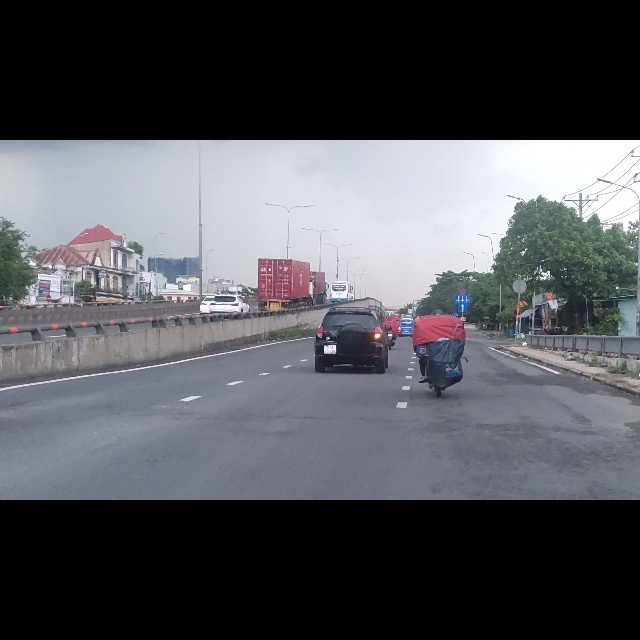bien_cam: (458, 290, 468, 306), (460, 263, 467, 274)
